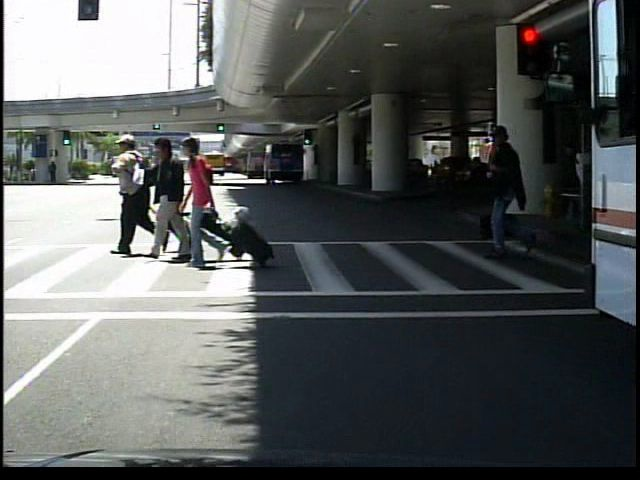person: (471, 116, 543, 261)
